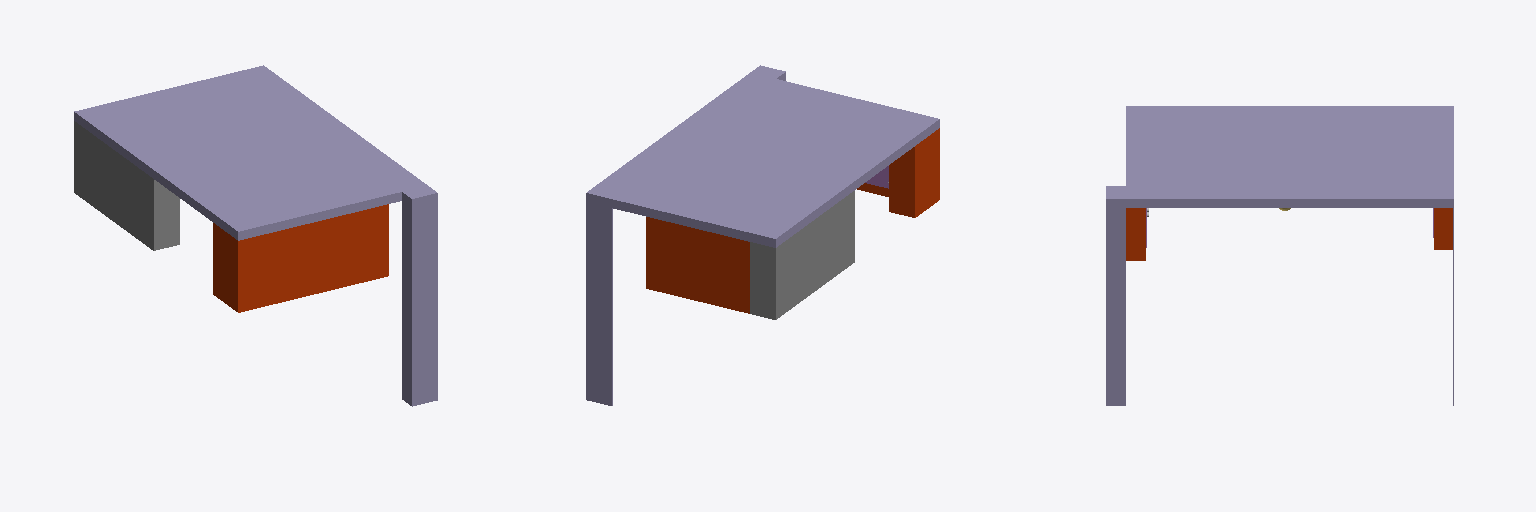
The picture shows the model from 3 angles: view 1: azimuth 30°, elevation 25°; view 2: azimuth 150°, elevation 25°; view 3: azimuth 270°, elevation 25°; orthographic projection.
Visible parts, largest first — view 1: Box011, Box002, Box012, Box003, Box001; view 2: Box011, Box003, Box004, Box013, Box001; view 3: Box011, Box012, Box002, Box004.
Part boxes in pixels (left/top/right/bottom): Box011: left=74, top=65, right=427, bottom=240; Box002: left=264, top=204, right=388, bottom=306; Box012: left=402, top=186, right=437, bottom=406; Box003: left=74, top=121, right=179, bottom=250; Box001: left=213, top=223, right=263, bottom=312; Box011: left=586, top=73, right=939, bottom=247; Box003: left=750, top=191, right=854, bottom=319; Box004: left=646, top=217, right=749, bottom=313; Box013: left=586, top=202, right=612, bottom=405; Box001: left=889, top=128, right=939, bottom=217; Box011: left=1126, top=106, right=1453, bottom=207; Box012: left=1106, top=186, right=1125, bottom=405; Box002: left=1126, top=208, right=1145, bottom=260; Box004: left=1434, top=208, right=1452, bottom=249.
Bounding box in the file's own units: 22 × 23 × 35.
5 materials, 5 textured.